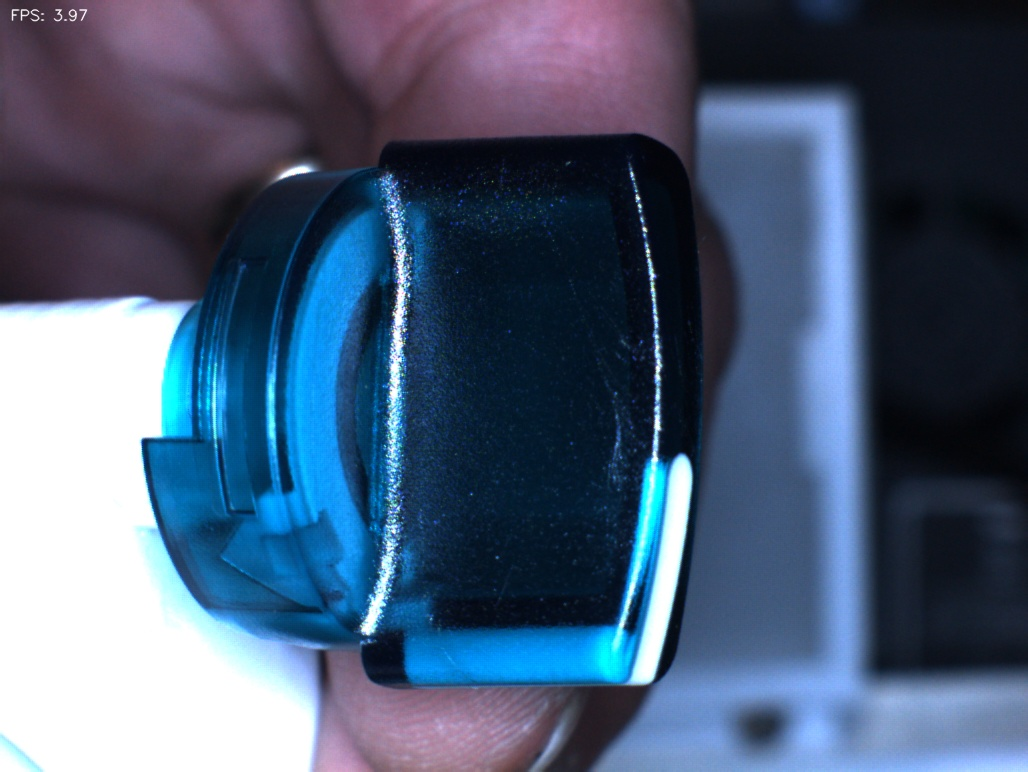Givrage: (575, 300, 652, 515)
